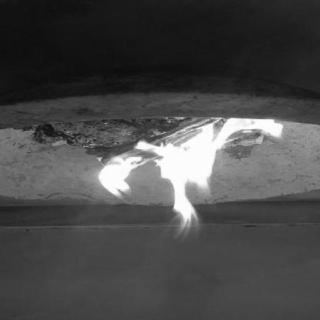Fire: (84, 112, 288, 242)
